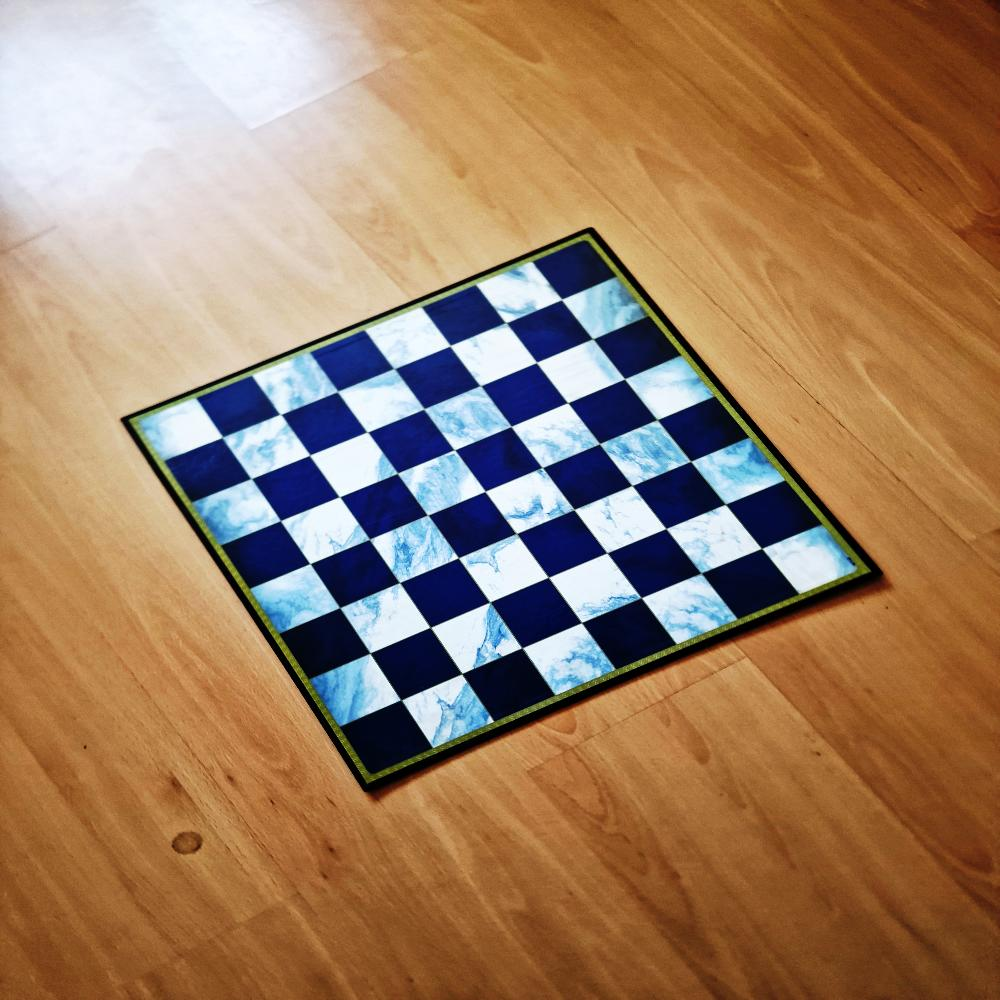chessfield: (762, 525, 871, 600), (123, 398, 229, 474), (638, 574, 740, 651), (519, 625, 618, 703), (401, 674, 502, 749), (338, 702, 431, 781), (305, 656, 399, 731), (688, 436, 788, 506), (462, 649, 555, 723), (245, 561, 340, 632), (701, 548, 796, 619), (428, 606, 524, 676), (580, 599, 674, 670), (664, 508, 760, 577), (372, 630, 464, 700), (336, 582, 428, 652), (371, 516, 464, 585), (456, 535, 550, 603), (490, 578, 582, 647), (548, 553, 640, 622), (607, 529, 700, 597), (573, 489, 666, 557), (280, 499, 370, 568), (471, 256, 562, 324), (218, 414, 310, 481), (400, 562, 490, 630), (280, 612, 370, 680), (727, 481, 818, 548), (631, 464, 723, 530), (527, 233, 616, 301), (486, 469, 577, 535), (601, 421, 692, 487), (623, 356, 715, 421), (191, 484, 280, 551), (400, 448, 490, 514), (510, 404, 600, 470), (308, 539, 396, 606), (253, 346, 341, 413), (517, 513, 606, 579), (534, 340, 623, 406), (361, 304, 450, 370), (308, 432, 398, 497), (541, 443, 631, 507), (421, 390, 510, 454), (337, 478, 424, 543), (426, 495, 514, 559), (450, 323, 538, 387), (567, 384, 656, 447), (337, 369, 426, 432), (659, 399, 748, 462), (561, 276, 650, 339), (251, 457, 338, 521), (220, 525, 306, 589), (459, 428, 545, 492), (591, 316, 678, 379), (165, 438, 251, 501), (369, 411, 456, 473), (282, 394, 367, 456), (193, 374, 278, 436), (395, 349, 481, 410), (483, 365, 569, 426), (418, 286, 504, 347), (507, 302, 592, 363), (307, 332, 392, 393)
